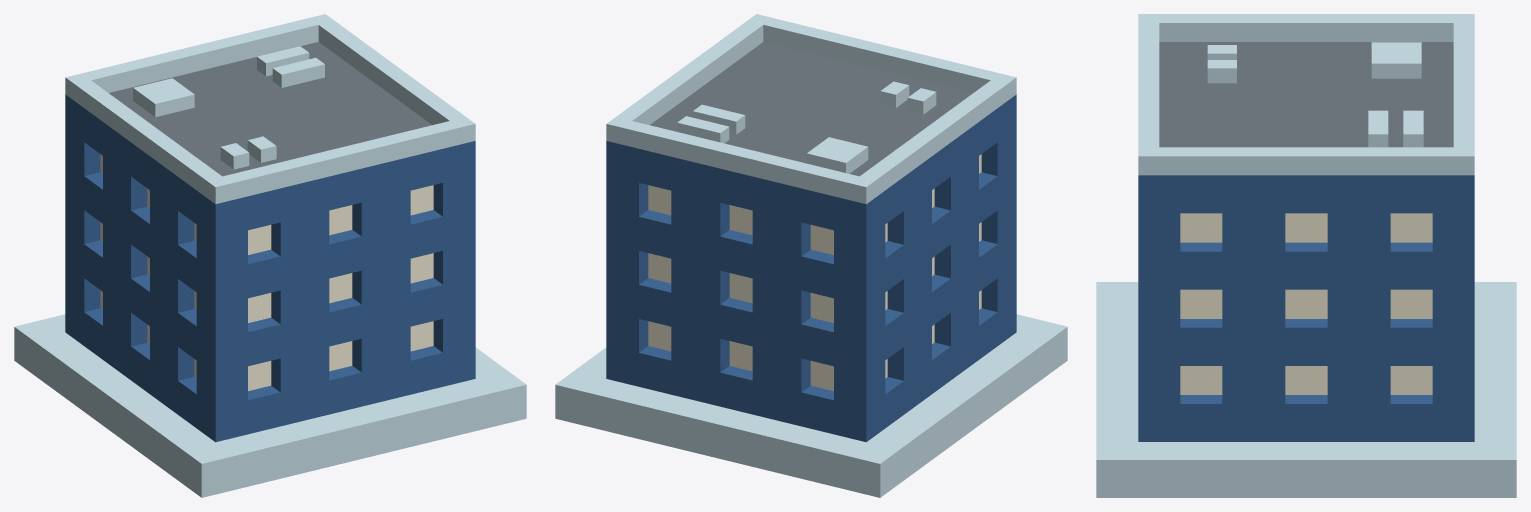
File: Building_2_Base_Extra (Blue).obj
The picture shows the model from 3 angles, left to right: view 1: azimuth 30°, elevation 25°; view 2: azimuth 150°, elevation 25°; view 3: azimuth 270°, elevation 25°; orthographic projection. The views are drawn at different scales.
Parts seen in each view (by area): view 1: Building_2_Base_Extra_(Blue); view 2: Building_2_Base_Extra_(Blue); view 3: Building_2_Base_Extra_(Blue).
Part boxes in pixels (box(x1,y1,x2,y2)): Building_2_Base_Extra_(Blue): box(14, 14, 526, 497); Building_2_Base_Extra_(Blue): box(555, 14, 1067, 497); Building_2_Base_Extra_(Blue): box(1096, 14, 1516, 497).
Bounding box in the file's own units: 2 × 1.7 × 2.
